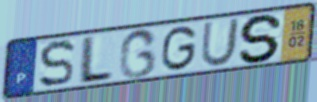G: (117, 26, 160, 81), (159, 24, 199, 73)
L: (75, 34, 116, 86)
S: (237, 13, 286, 65), (37, 38, 77, 90)
U: (198, 16, 242, 68)
